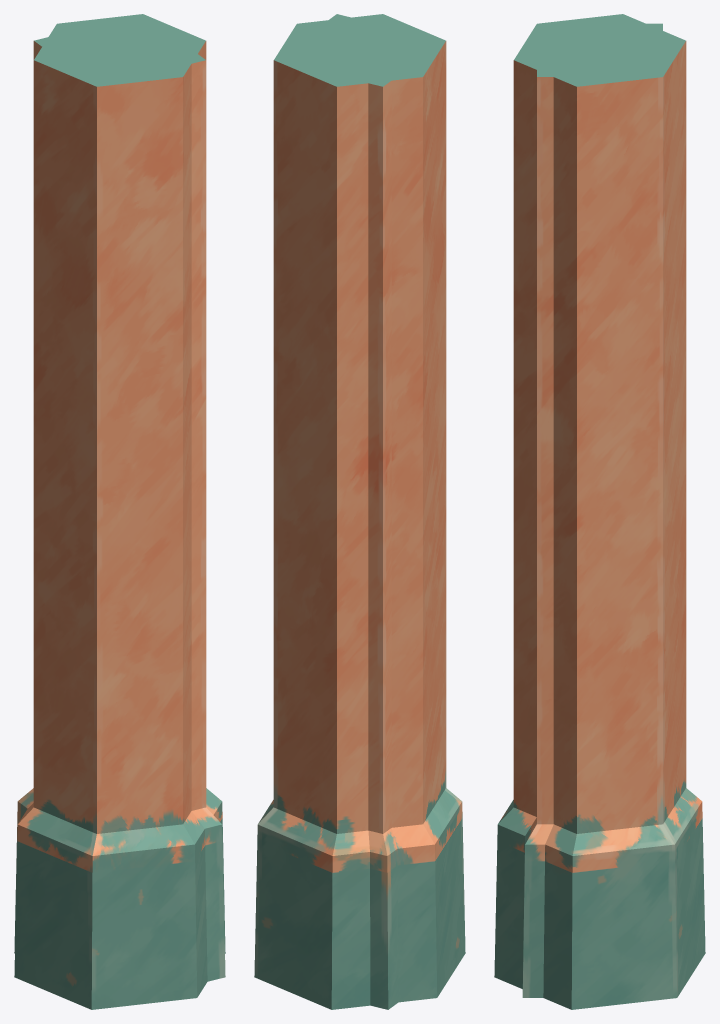
File: corner.bundle.fbx
3 renders of one model, left to right at view 1: azimuth 30°, elevation 25°; view 2: azimuth 150°, elevation 25°; view 3: azimuth 270°, elevation 25°, orthographic.
Visible parts, largest first — view 1: corner_low, corner, corner_s03, corner_s02; view 2: corner_low, corner, corner_s02, corner_s01, corner_s03; view 3: corner_low, corner, corner_s02, corner_s03.
Part boxes in pixels (left/top/right/bottom): corner_low: left=14, top=14, right=225, bottom=1009; corner: left=14, top=14, right=225, bottom=981; corner_s03: left=14, top=613, right=225, bottom=980; corner_s02: left=33, top=41, right=206, bottom=547; corner_low: left=254, top=14, right=465, bottom=1009; corner: left=274, top=14, right=445, bottom=1009; corner_s02: left=368, top=81, right=391, bottom=490; corner_s01: left=368, top=487, right=391, bottom=674; corner_s03: left=368, top=702, right=398, bottom=1008; corner_low: left=494, top=14, right=705, bottom=1009; corner: left=522, top=23, right=662, bottom=997; corner_s02: left=537, top=81, right=553, bottom=563; corner_s03: left=522, top=612, right=553, bottom=991.
Bounding box in the file's own units: 2.51 × 12 × 2.51.
Materials: 1 (1 with a texture image).
